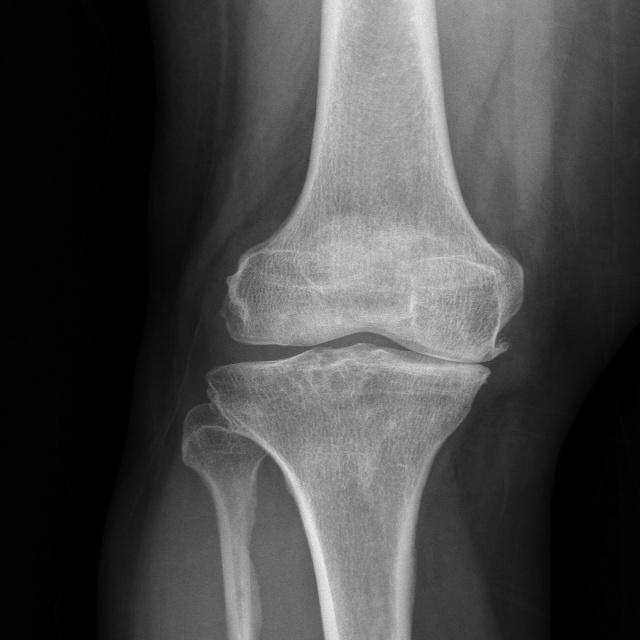Knee: (204, 229, 527, 446)
